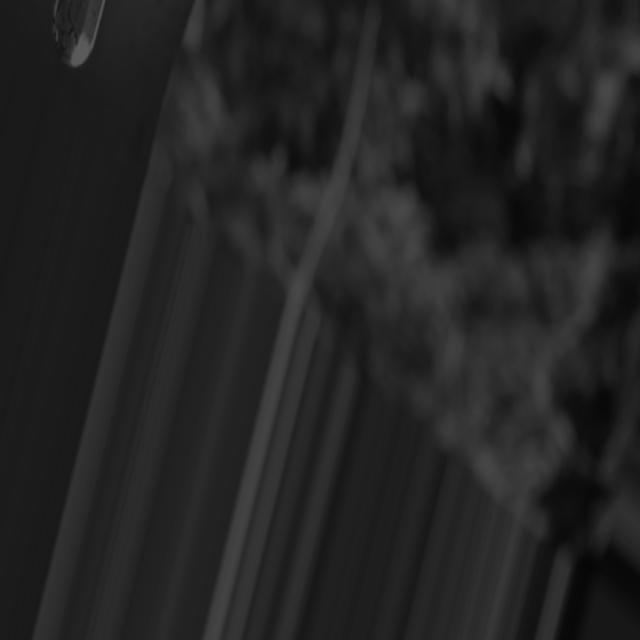larvas: (68, 6, 78, 40), (53, 22, 60, 42), (60, 37, 69, 52)
